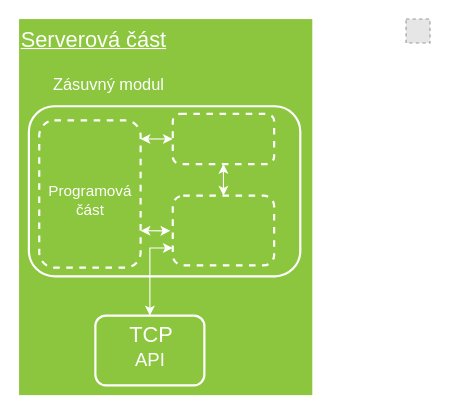
The diagram is 449 pixels wide and 414 high, and some of its shapes have lost their labels. Grey dashed boxes stand in for pictures. The shapes that lost their labels are listed below. From the top down, each one's box as (x1, y1, x2, y2) in pixels, then its label:
(171, 112, 275, 165): Příkazová část
(171, 194, 275, 266): Komunikace se systémem (shell lib)
